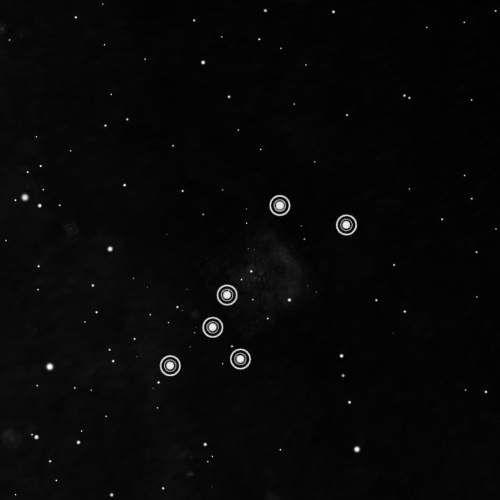canis_major: (153, 190, 364, 383)
